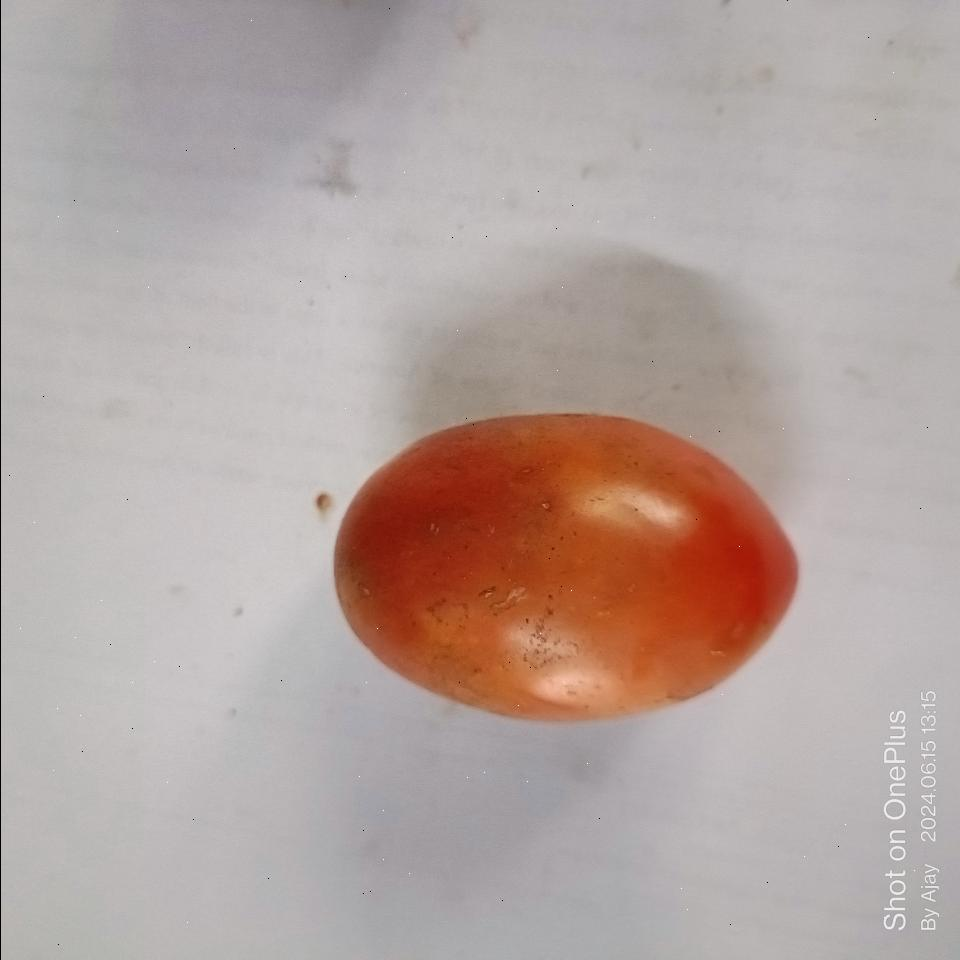Bacterial_Spot: (535, 496, 553, 516)
